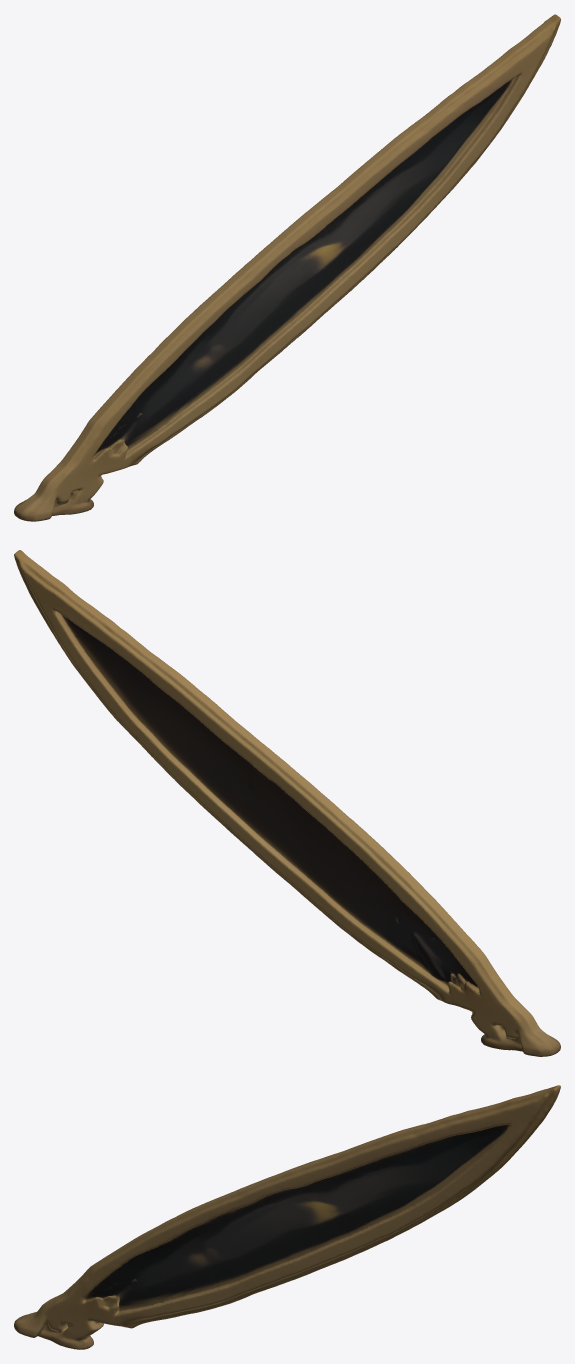
File: ear_single_ref-3.glb
3 renders of one model, top to bottom at view 1: azimuth 30°, elevation 25°; view 2: azimuth 150°, elevation 25°; view 3: azimuth 330°, elevation 25°, orthographic.
Size of the model in its own units: 1 by 0.6631 by 0.055.
Materials: 1 (1 with a texture image).
